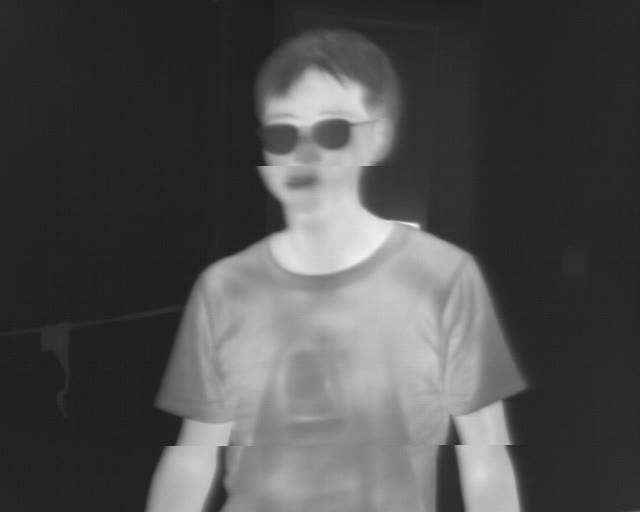face: (250, 25, 402, 213)
